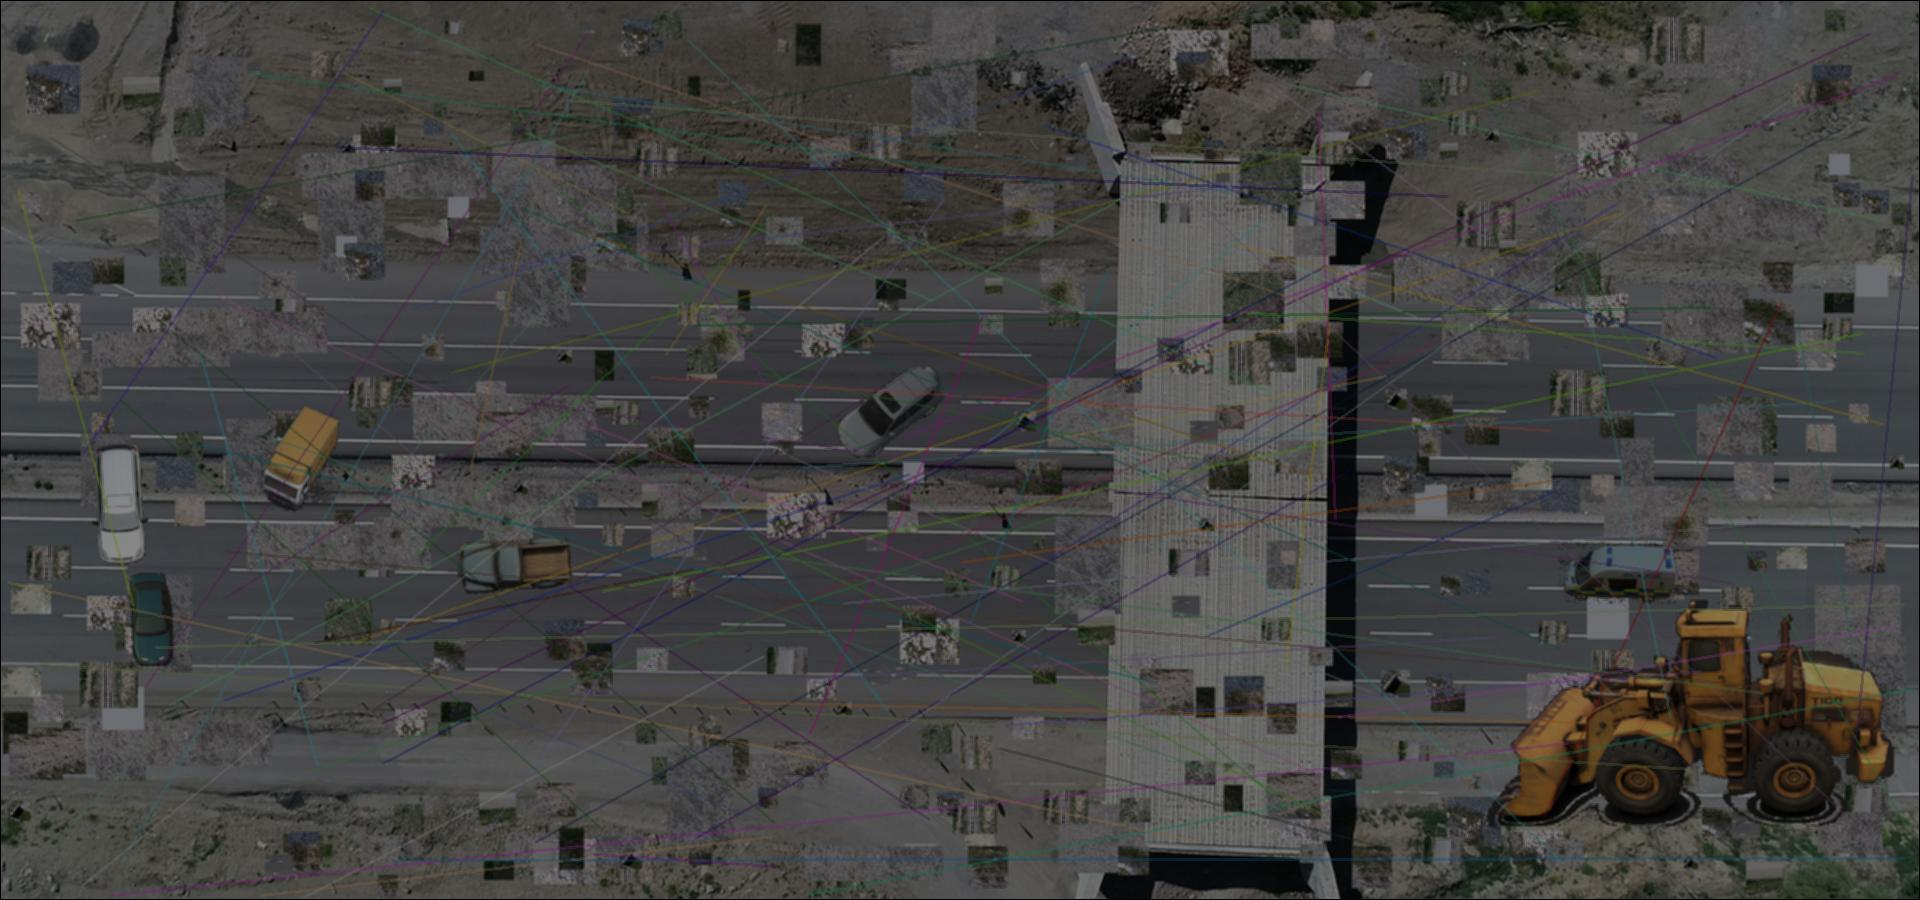arac: (1488, 600, 1904, 827), (833, 367, 944, 458), (261, 404, 343, 513), (84, 442, 152, 564), (456, 531, 574, 594), (1559, 542, 1678, 604), (129, 573, 173, 666)
